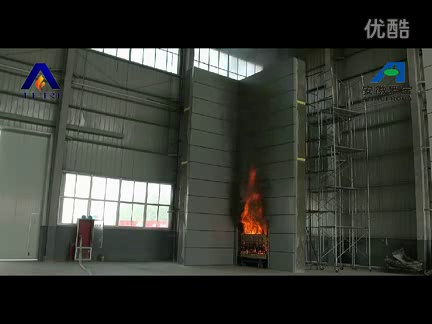fire: (244, 170, 267, 237)
